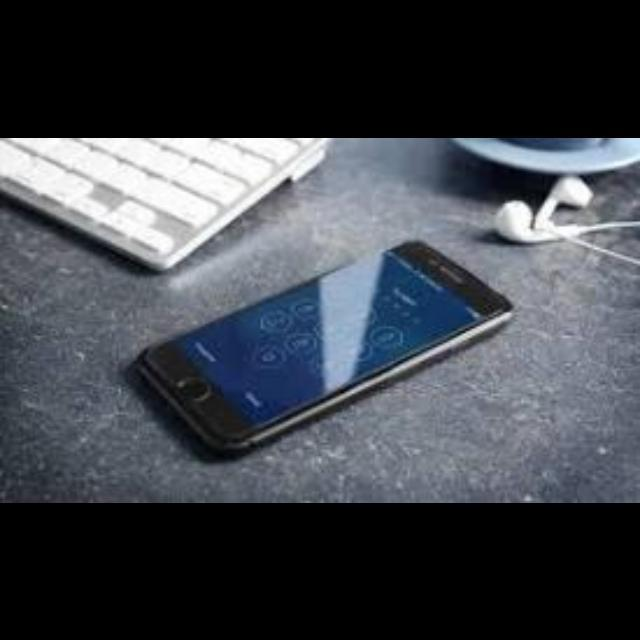PhoneUse: (132, 237, 510, 448)
